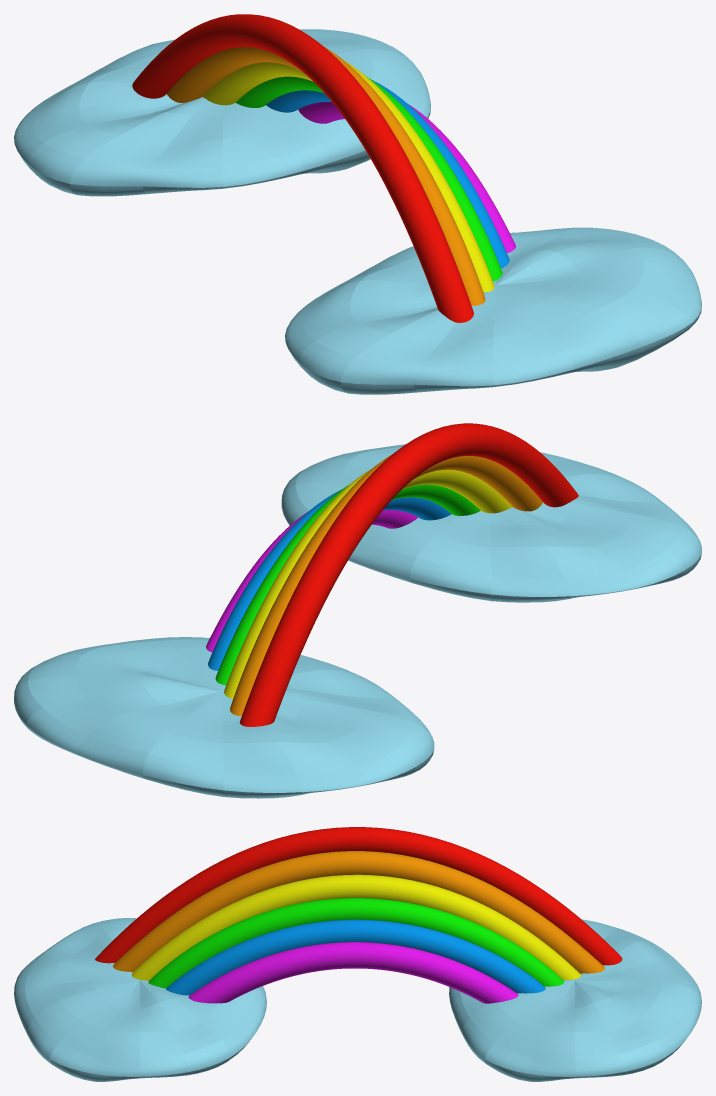
Rendered from rainbow.fbx.
3 views of the same model, one above another, from view 1: azimuth 30°, elevation 25°; view 2: azimuth 150°, elevation 25°; view 3: azimuth 270°, elevation 25° (orthographic). The views are drawn at different scales.
Visible parts, largest first — view 1: clouds, clouds_2_3.001, NurbsPath.006, NurbsPath.005, NurbsPath.004, NurbsPath.003, NurbsPath.002, NurbsPath.001; view 2: clouds_2_3.001, clouds, NurbsPath.006, NurbsPath.005, NurbsPath.004, NurbsPath.003, NurbsPath.002, NurbsPath.001; view 3: clouds, clouds_2_3.001, NurbsPath.006, NurbsPath.005, NurbsPath.004, NurbsPath.003, NurbsPath.002, NurbsPath.001.
Boxes of the visible parts, x1,y1,x2,y2 form: clouds: (285, 227, 701, 394); clouds_2_3.001: (14, 29, 430, 196); NurbsPath.006: (132, 14, 473, 322); NurbsPath.005: (167, 45, 485, 305); NurbsPath.004: (202, 61, 494, 292); NurbsPath.003: (235, 76, 502, 281); NurbsPath.002: (266, 80, 509, 268); NurbsPath.001: (298, 102, 515, 252); clouds_2_3.001: (14, 637, 434, 798); clouds: (281, 444, 701, 602); NurbsPath.006: (239, 423, 578, 726); NurbsPath.005: (230, 453, 542, 715); NurbsPath.004: (224, 469, 512, 698); NurbsPath.003: (215, 484, 480, 685); NurbsPath.002: (208, 489, 451, 670); NurbsPath.001: (206, 510, 417, 652); clouds: (14, 918, 266, 1081); clouds_2_3.001: (449, 919, 701, 1081); NurbsPath.006: (95, 827, 622, 965); NurbsPath.005: (113, 851, 604, 973); NurbsPath.004: (131, 874, 581, 980); NurbsPath.003: (148, 898, 563, 988); NurbsPath.002: (166, 919, 545, 995); NurbsPath.001: (188, 942, 518, 1003).
Bounding box in the file's own units: 1149 × 640 × 2199.
